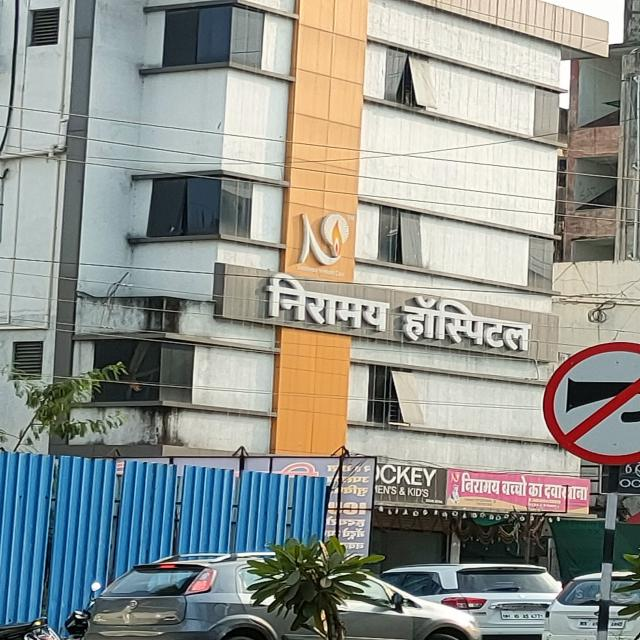HORN_PROHIBITED: (542, 341, 640, 465)
